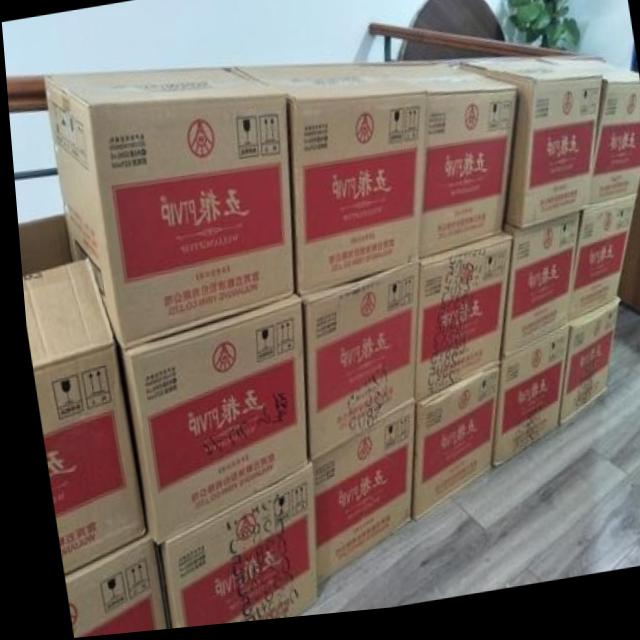box: (43, 72, 287, 353), (219, 69, 424, 301), (111, 297, 299, 545), (18, 261, 136, 575), (350, 68, 516, 265), (442, 68, 598, 237), (149, 466, 306, 631), (298, 267, 413, 466), (304, 407, 407, 591), (524, 64, 640, 219), (406, 242, 507, 410), (402, 373, 493, 527), (493, 225, 575, 368), (483, 333, 563, 478), (56, 537, 158, 638), (562, 211, 630, 331), (552, 311, 613, 435)
